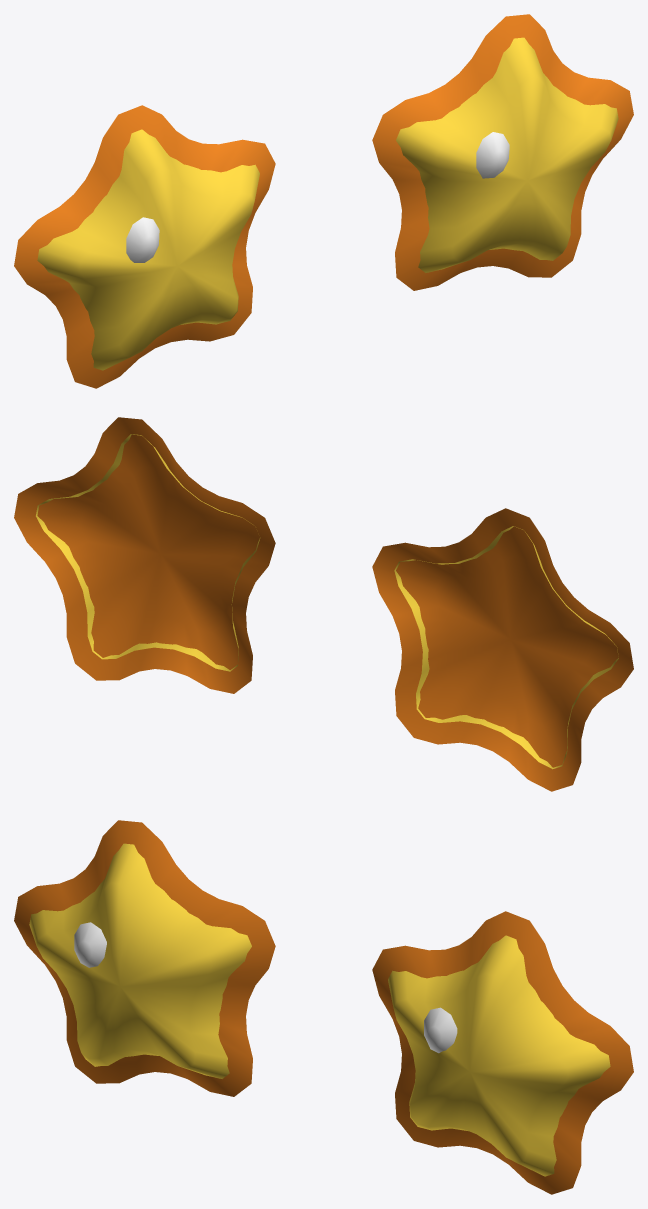
Rendered from star_eyes.glb.
3 views of the same model, one above another, from view 1: azimuth 30°, elevation 25°; view 2: azimuth 150°, elevation 25°; view 3: azimuth 330°, elevation 25° (orthographic).
Visible parts, largest first — view 1: star_eyes; view 2: star_eyes; view 3: star_eyes.
Boxes of the visible parts, box(x1,y1,x2,y2) form: star_eyes: box(14, 14, 633, 388); star_eyes: box(14, 417, 633, 791); star_eyes: box(14, 820, 633, 1194).
Size of the model in its own units: 0.4253 by 0.1785 by 0.038.
